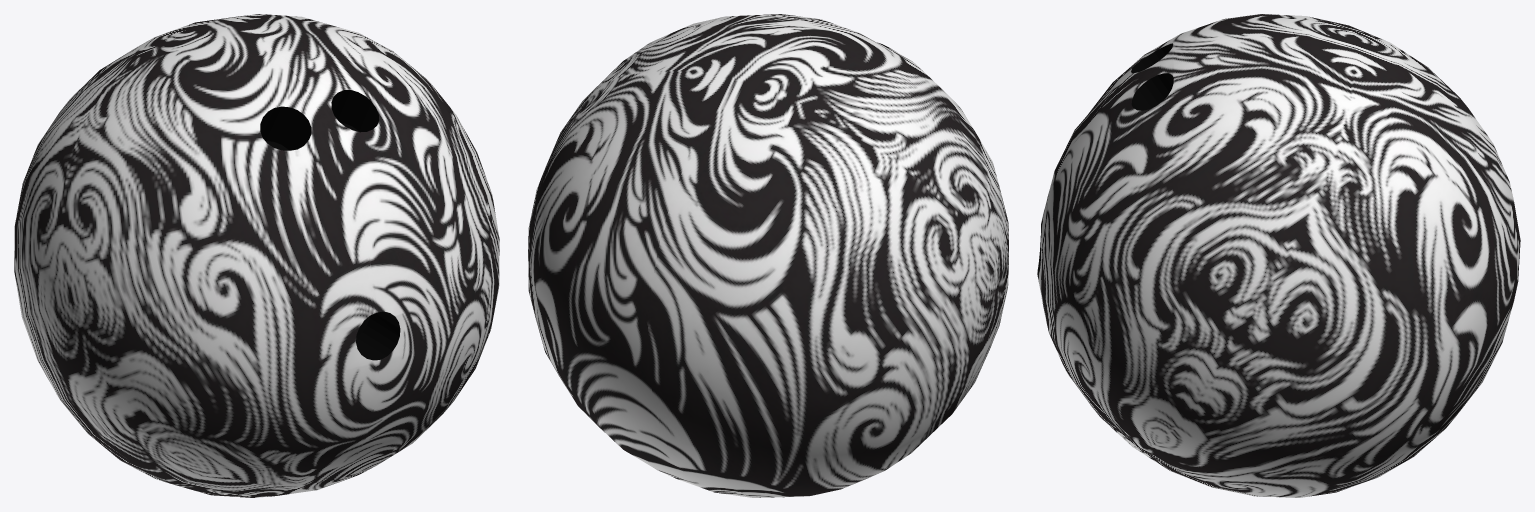
File: ball.glb
The picture shows the model from 3 angles, left to right: view 1: azimuth 30°, elevation 25°; view 2: azimuth 150°, elevation 25°; view 3: azimuth 270°, elevation 25°; orthographic projection.
Parts seen in each view (by area): view 1: T-model_Base_initialShadingGroup_0.002; view 2: T-model_Base_initialShadingGroup_0.002; view 3: T-model_Base_initialShadingGroup_0.002.
Part boxes in pixels (x1=…): T-model_Base_initialShadingGroup_0.002: x1=14, y1=14, x2=499, y2=497; T-model_Base_initialShadingGroup_0.002: x1=528, y1=14, x2=1008, y2=497; T-model_Base_initialShadingGroup_0.002: x1=1037, y1=14, x2=1520, y2=497.
Size of the model in its own units: 0.2215 by 0.2239 by 0.2238.
1 material, 1 textured.
